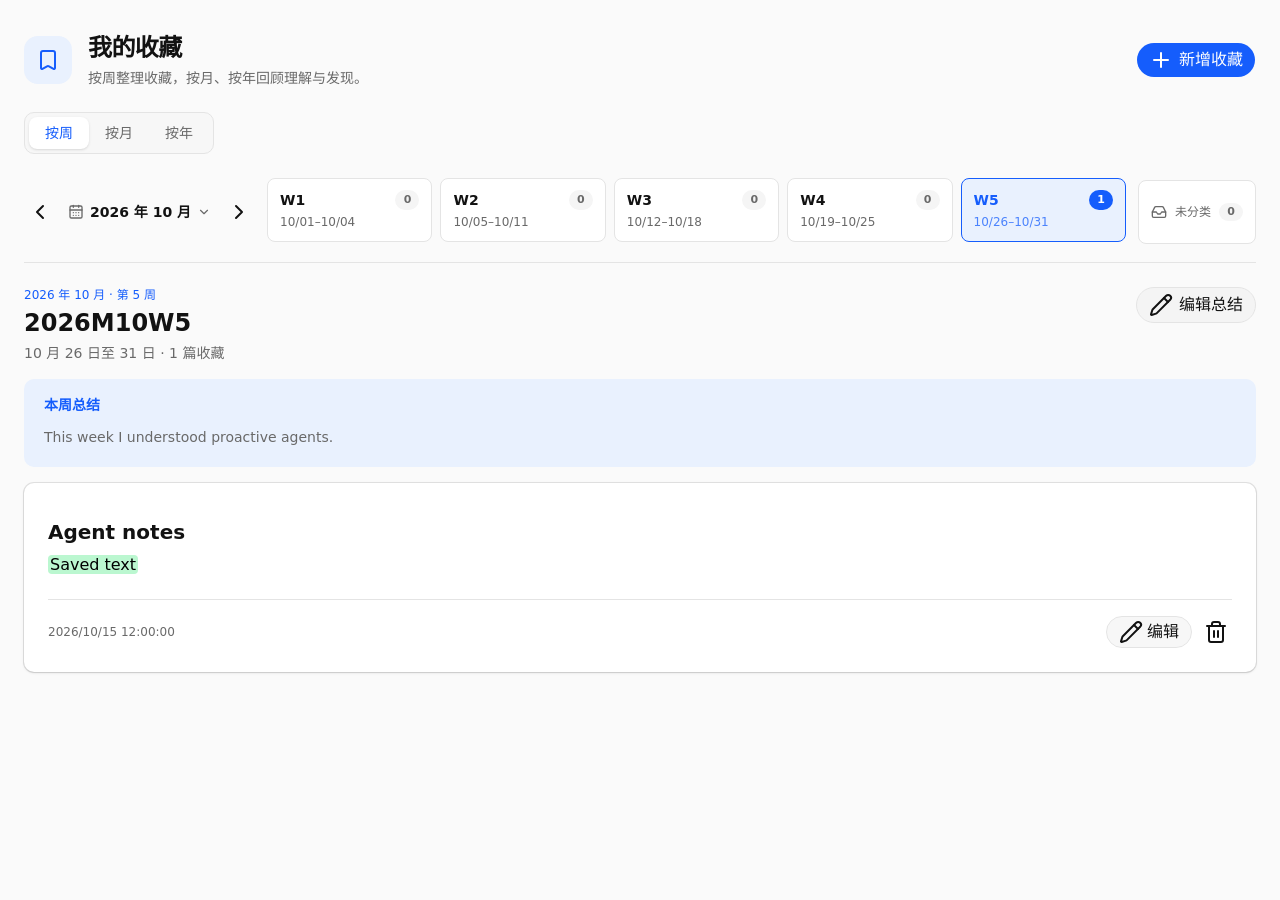
Test: weekly collections › edits and persists the selected week summary
Click the button "编辑总结" at (1196, 305), box [1136,287,1256,323]
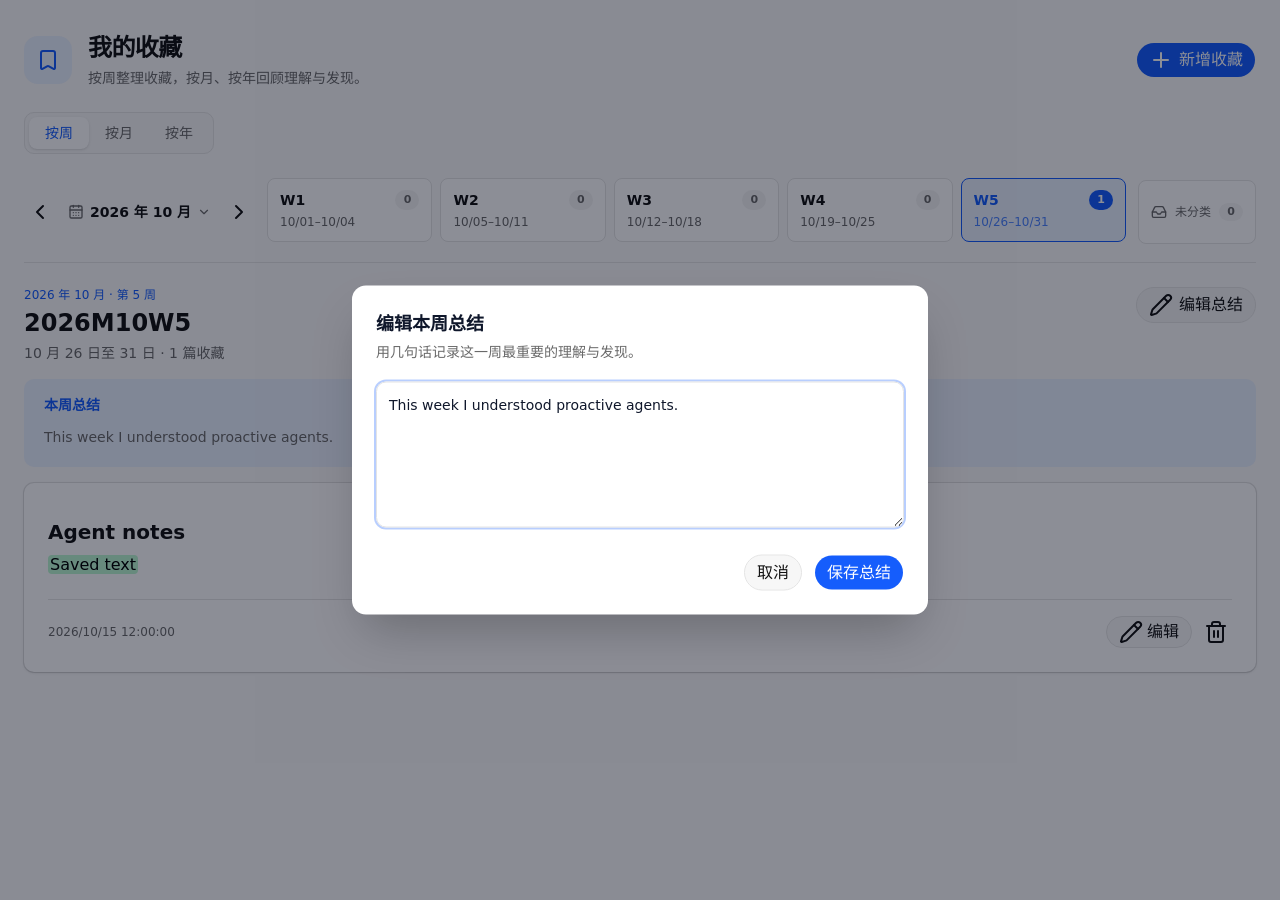
Check: the text box named "本周总结" holds "This week I understood proactive agents."
Replace the text in the text box named "本周总结" with "Updated summary" at (640, 454), box [376,382,904,528]
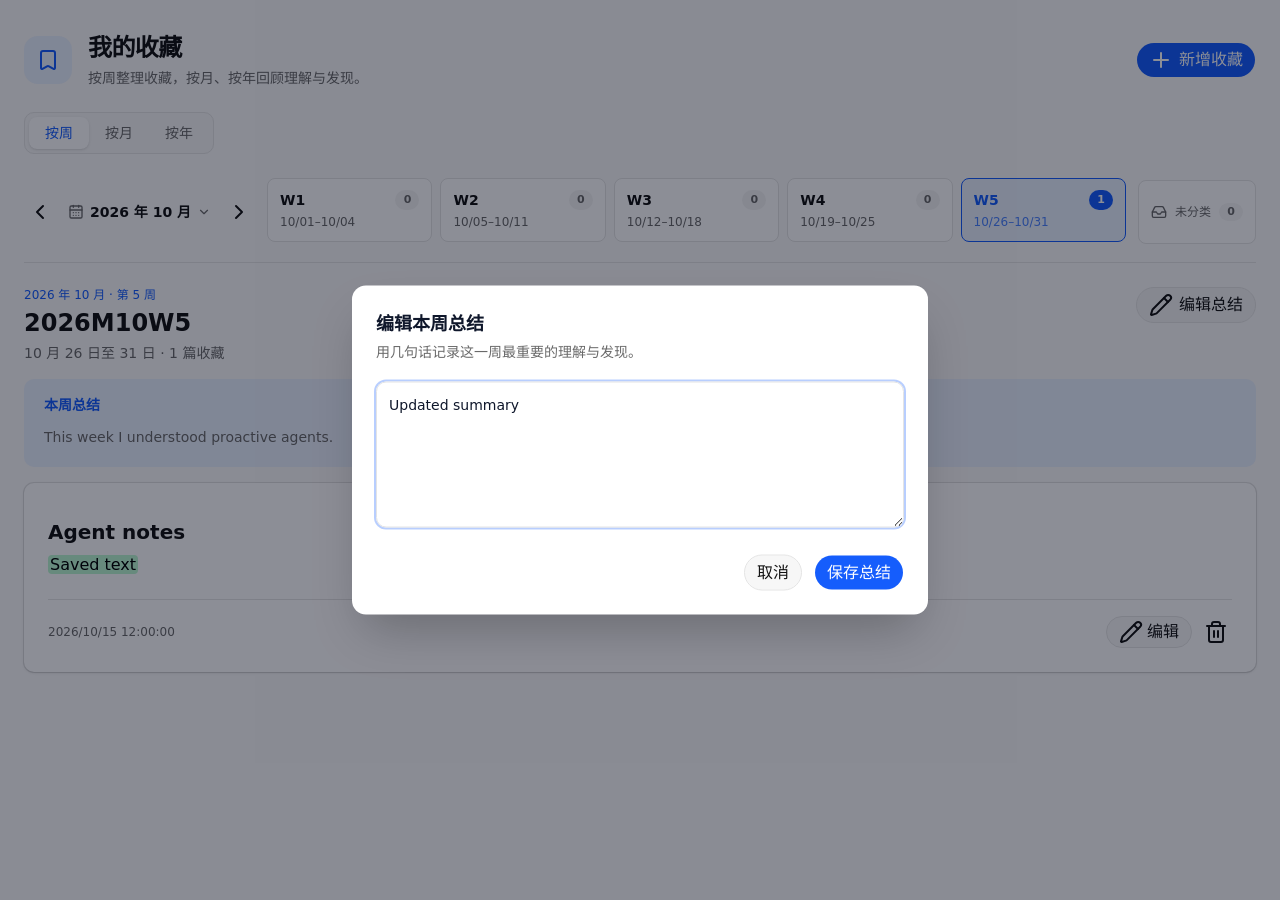
Click the button "保存总结" at (859, 572), box [814,554,904,590]
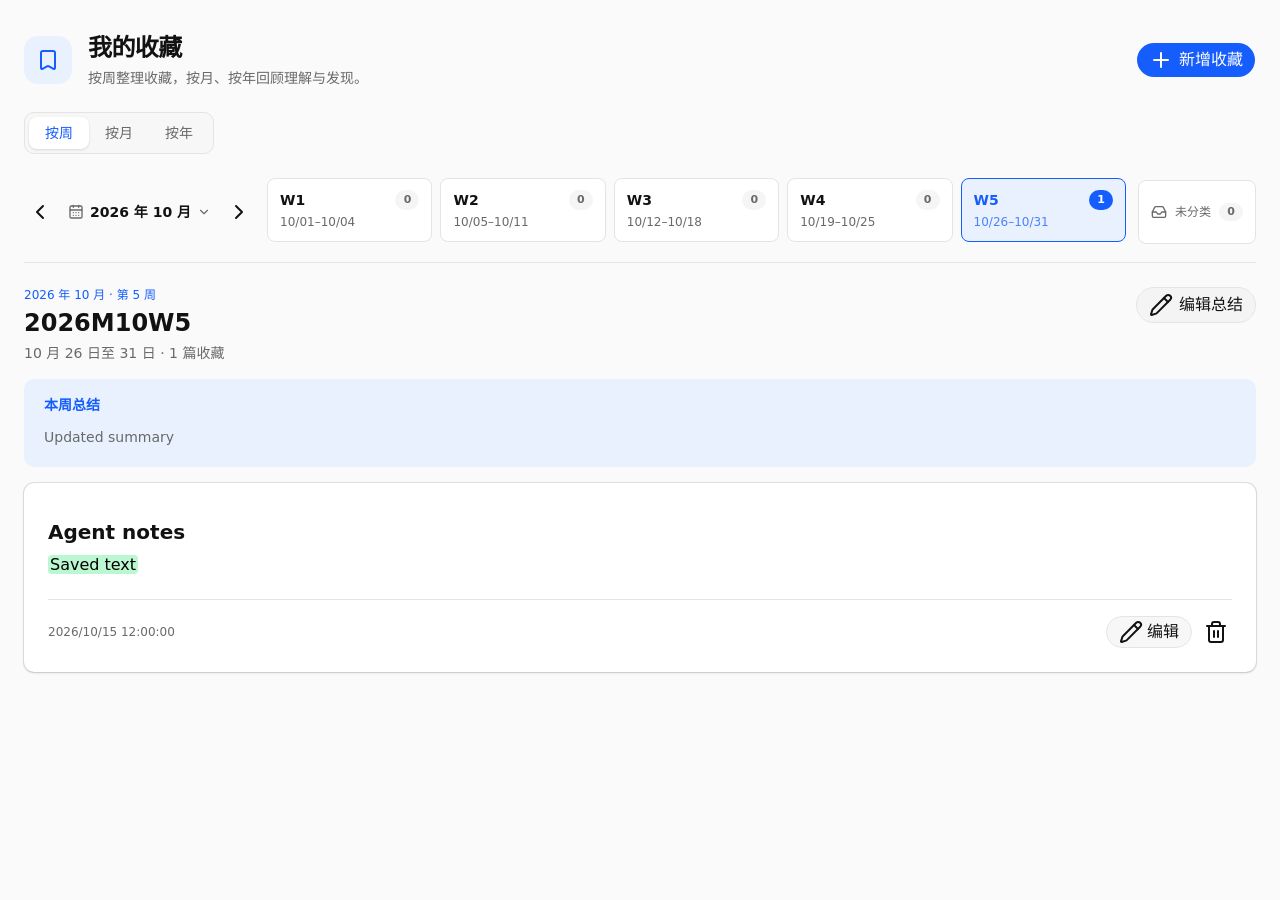
Check: the text "Updated summary" is shown, box [44,429,174,445]
